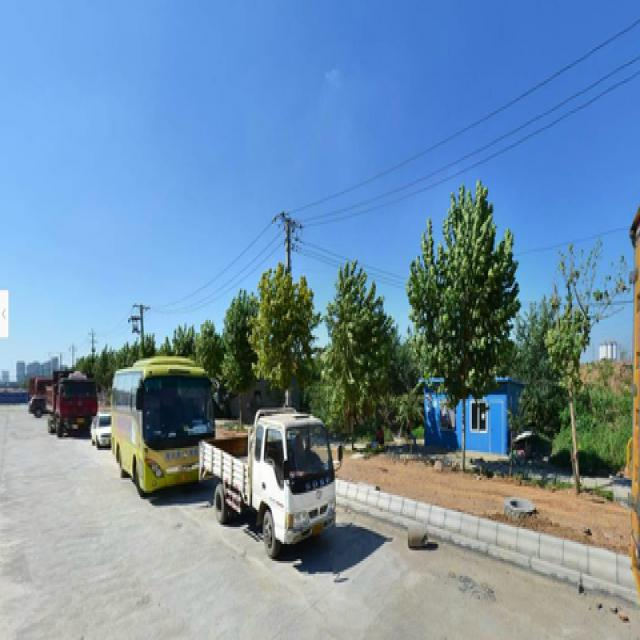meta: (428, 217, 509, 473), (328, 282, 387, 437), (255, 284, 305, 401)
